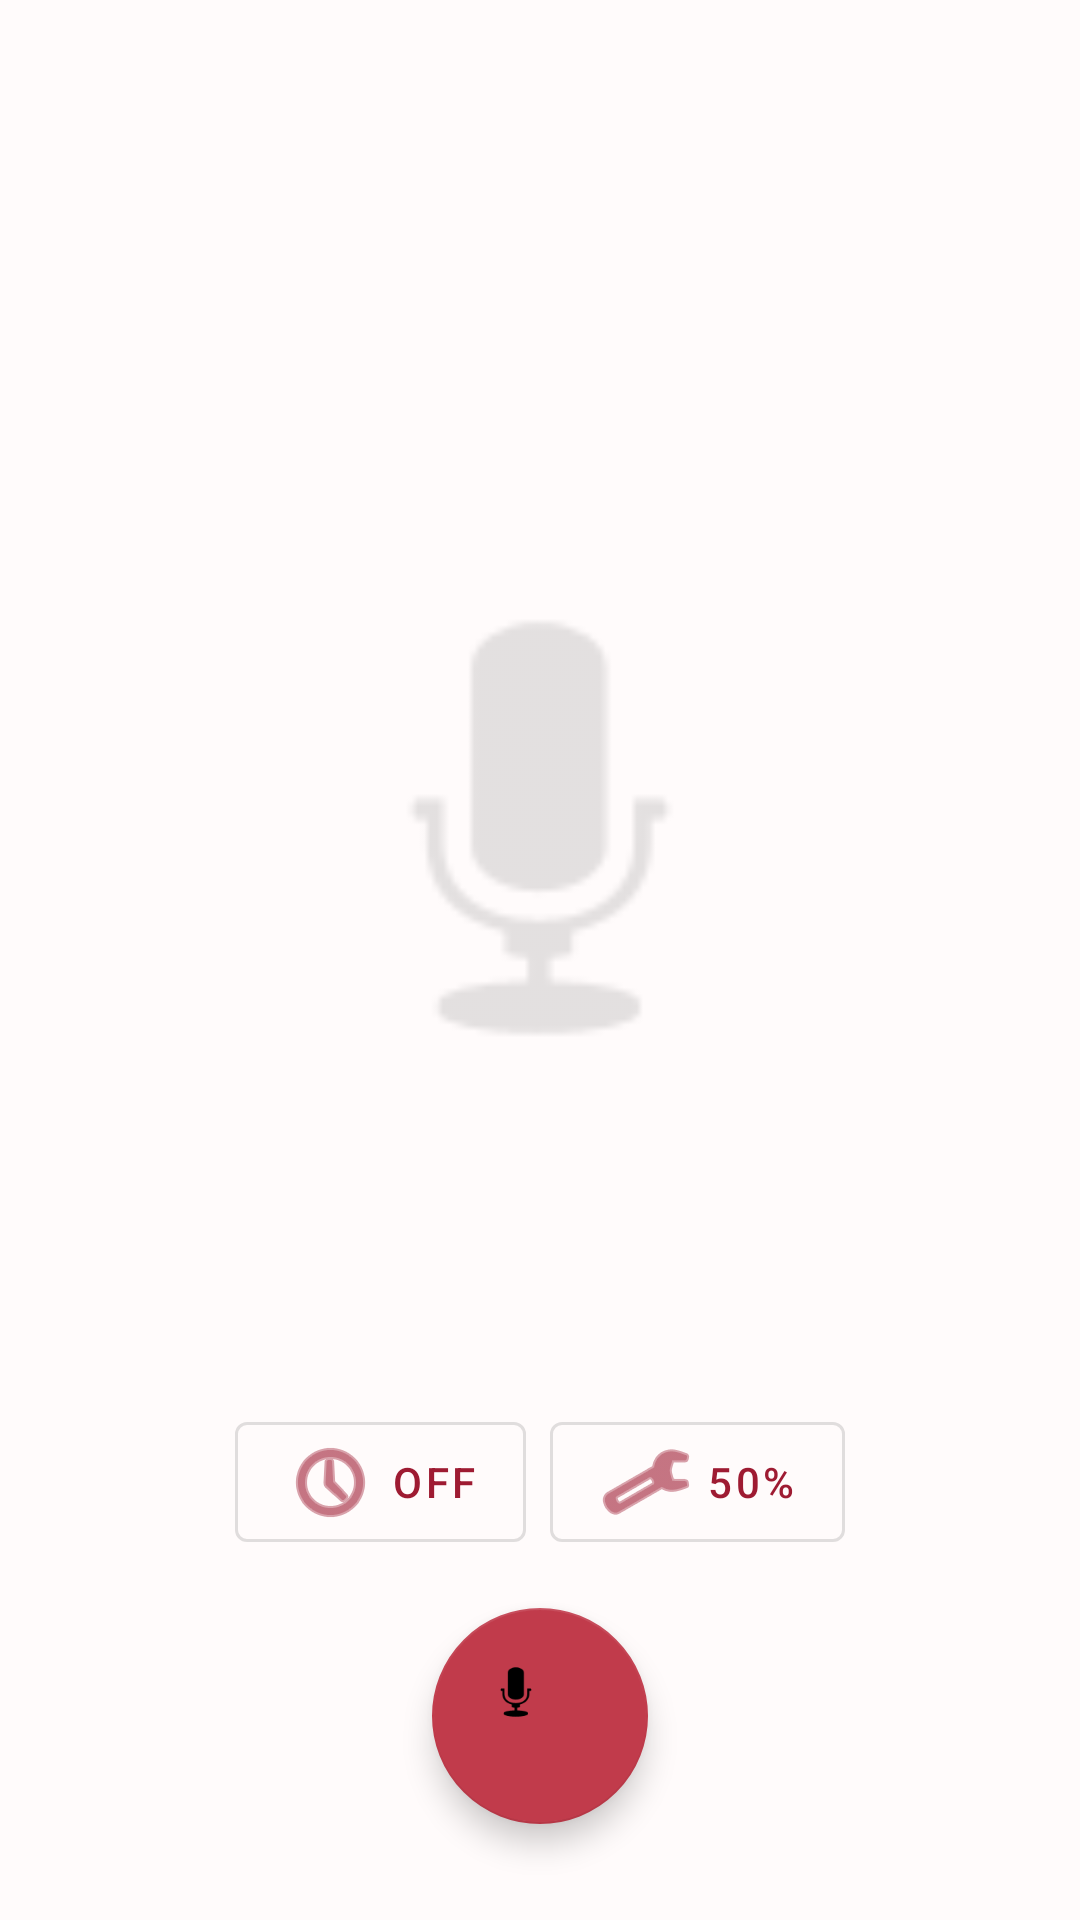

Locate icon controls on the screen. Image size 1080px×1920px, boxes as (x1, y1, x2, y2).
Grabar audio: (432, 1608, 648, 1824)
